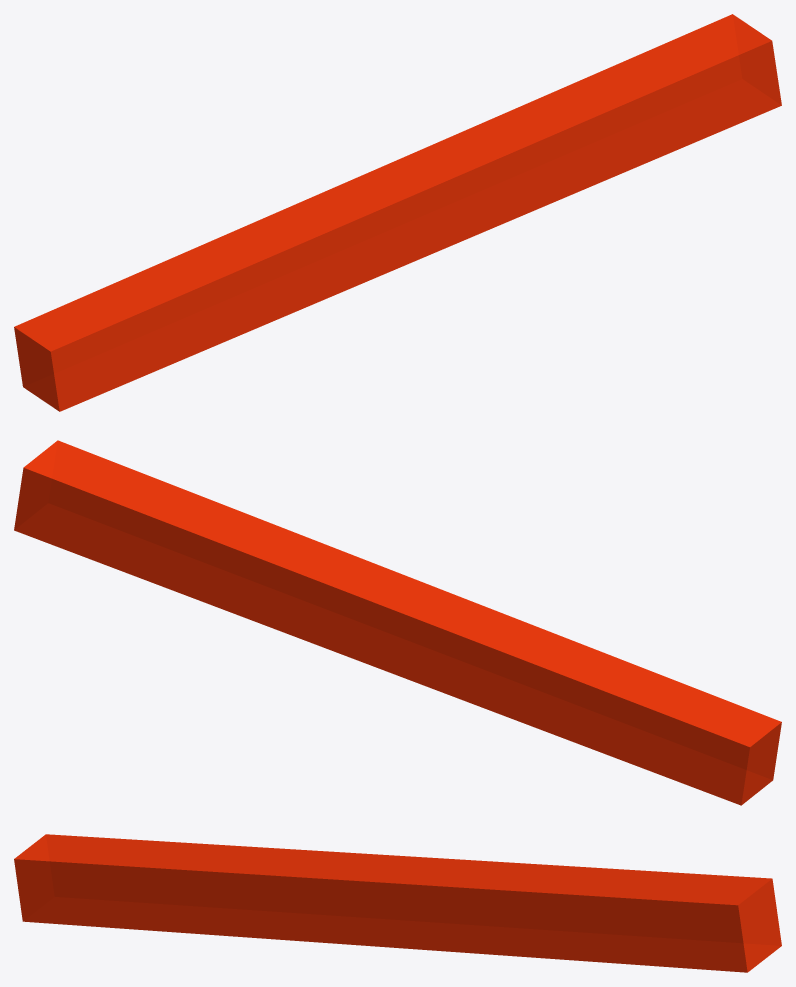
The model's file is Event_421115418_EErechit_72.fbx.
3 renders of one model, top to bottom at view 1: azimuth 30°, elevation 25°; view 2: azimuth 150°, elevation 25°; view 3: azimuth 330°, elevation 25°, orthographic. The views are drawn at different scales.
Parts seen in each view (by area): view 1: Model; view 2: Model; view 3: Model.
Boxes of the visible parts, x1,y1,x2,y2 form: Model: (14,14,781,411); Model: (14,440,781,805); Model: (14,834,781,972).
Size of the model in its own units: 0.8974 by 0.2118 by 0.1063.
